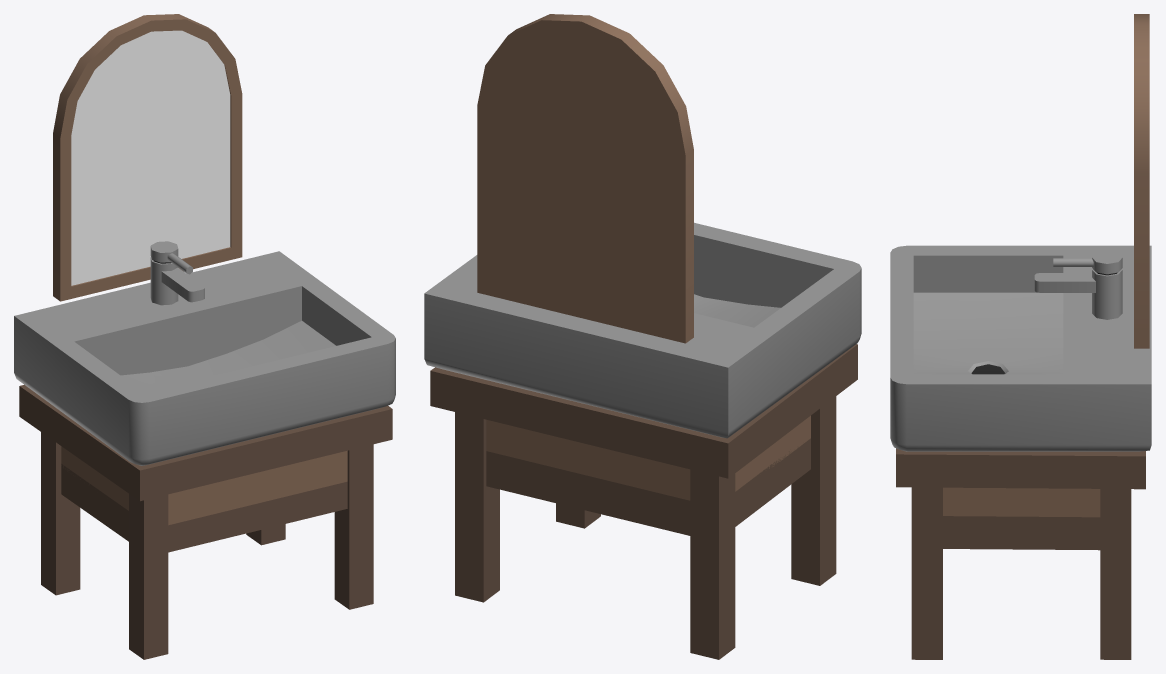
File: washstand_W.fbx
3 renders of one model, left to right at view 1: azimuth 30°, elevation 25°; view 2: azimuth 150°, elevation 25°; view 3: azimuth 270°, elevation 25°, orthographic. The views are drawn at different scales.
Visible parts, largest first — view 1: polySurface1, WallMirror_02, polySurface2, polySurface7, polySurface8, polySurface4, polySurface6, polySurface3, Faucet_03Shape; view 2: WallMirror_02, polySurface1, polySurface2, polySurface7, polySurface3, polySurface8, polySurface5, polySurface4, polySurface6; view 3: polySurface1, polySurface2, polySurface6, polySurface5, WallMirror_02, polySurface7, polySurface8, Faucet_03Shape.
Part boxes in pixels (box(x1,y1,x2,y2)): polySurface1: box(14, 251, 395, 465); WallMirror_02: box(53, 14, 242, 301); polySurface2: box(19, 384, 392, 501); polySurface7: box(61, 464, 347, 552); polySurface8: box(61, 446, 347, 525); polySurface4: box(129, 494, 168, 659); polySurface6: box(334, 444, 373, 609); polySurface3: box(41, 432, 80, 595); Faucet_03Shape: box(150, 241, 204, 305); WallMirror_02: box(477, 14, 693, 343); polySurface1: box(424, 222, 861, 438); polySurface2: box(430, 344, 857, 478); polySurface7: box(486, 438, 810, 535); polySurface3: box(690, 469, 735, 659); polySurface8: box(486, 415, 810, 500); polySurface5: box(455, 412, 499, 602); polySurface4: box(791, 396, 836, 585); polySurface6: box(556, 503, 600, 528); polySurface1: box(890, 245, 1151, 451); polySurface2: box(896, 448, 1145, 489); polySurface6: box(911, 487, 942, 659); polySurface5: box(1100, 489, 1131, 659); WallMirror_02: box(1134, 14, 1149, 348); polySurface7: box(943, 516, 1100, 550); polySurface8: box(943, 487, 1100, 517); Faucet_03Shape: box(1034, 251, 1122, 319).
Bounding box in the file's own units: 65.63 × 127 × 52.34.
